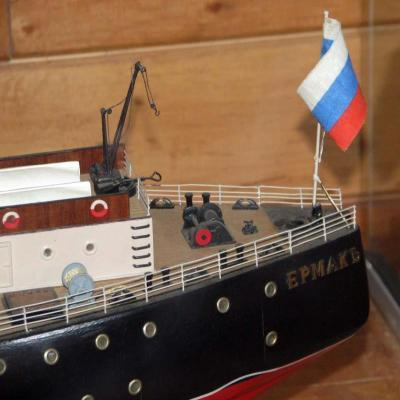other: (0, 134, 369, 400)
